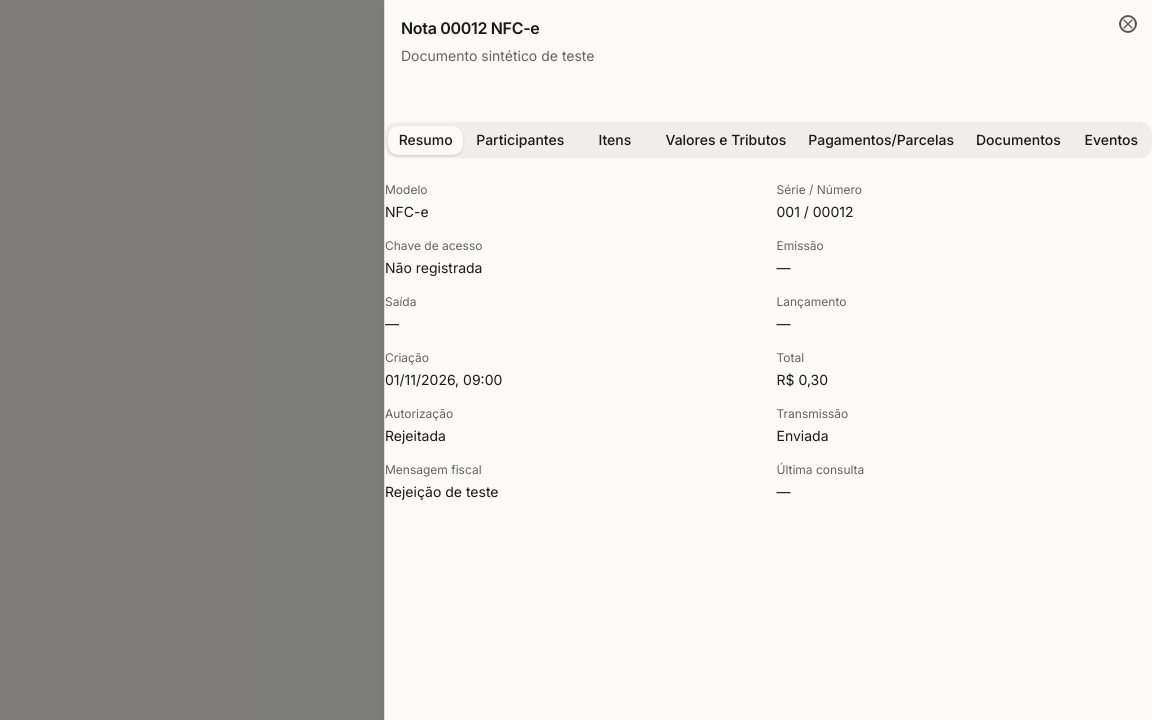
Scenario: loads the selected tenant/document and reads historical participants without a mutation
Expected: the text "R$ 0,30" is shown, [776,371,828,388]
Press the mouse on the tab "Participantes": [520, 140] box [467,126,573,154]
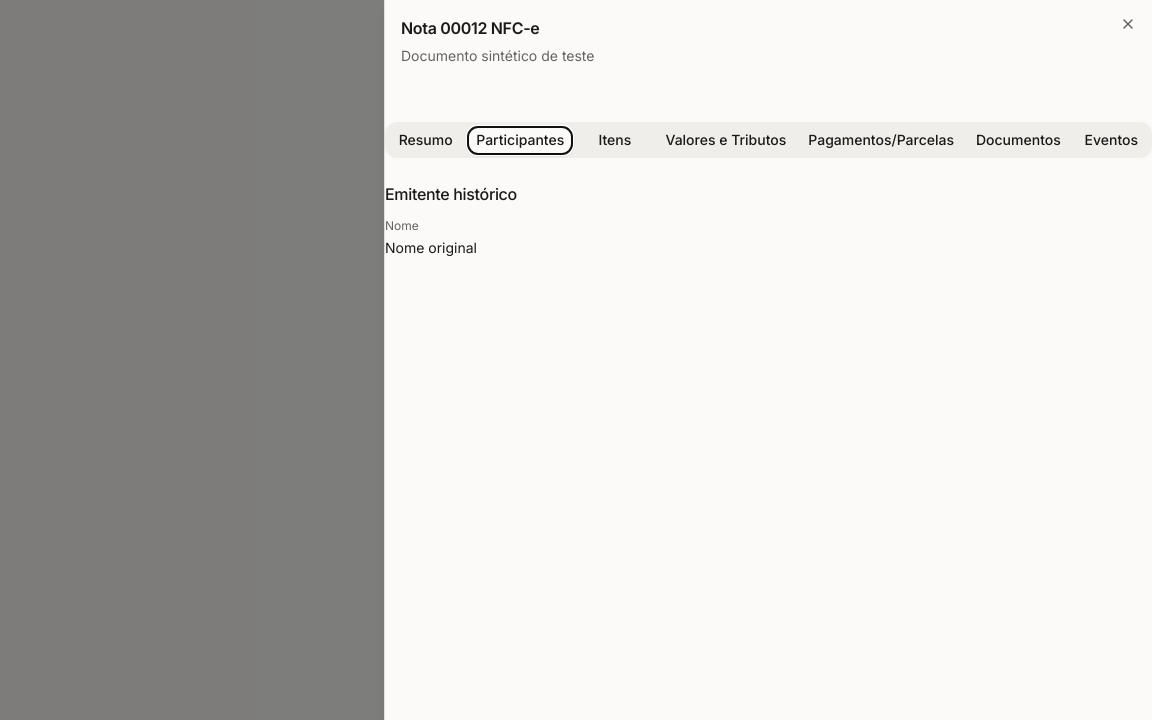
Result: the text "Nome original" is shown at [385,239,477,256]
